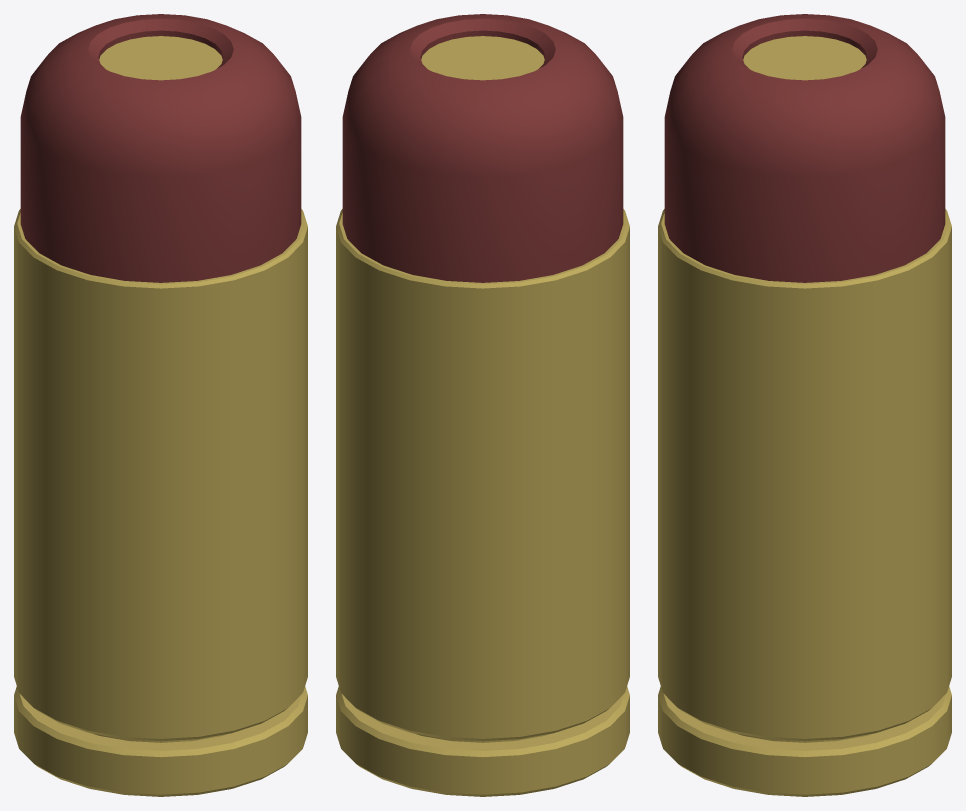
The model's file is PatronSolo.fbx.
3 views of the same model, side by side, from view 1: azimuth 30°, elevation 25°; view 2: azimuth 150°, elevation 25°; view 3: azimuth 270°, elevation 25° (orthographic).
Visible parts, largest first — view 1: Cylinder; view 2: Cylinder; view 3: Cylinder.
Part boxes in pixels (left/top/right/bottom): Cylinder: left=14, top=14, right=307, bottom=796; Cylinder: left=336, top=14, right=629, bottom=796; Cylinder: left=658, top=14, right=951, bottom=796.
Bounding box in the file's own units: 43.47 × 112 × 43.47.
